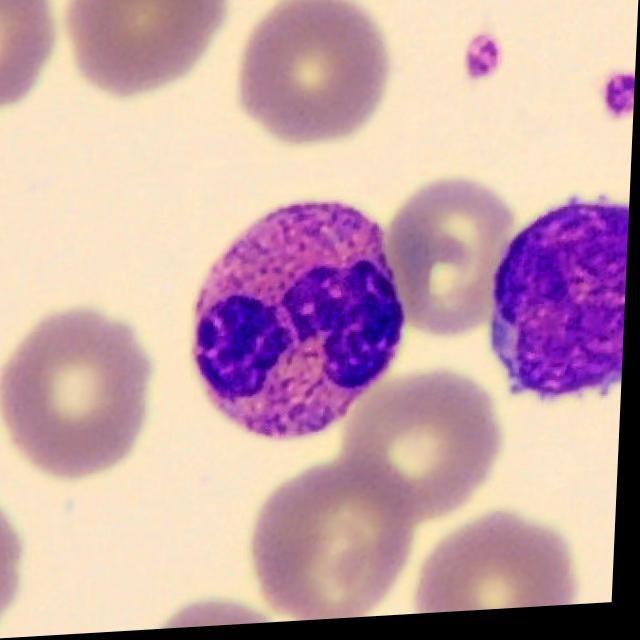Linfocito: (493, 208, 631, 409)
Neutrofilo segmentado: (193, 206, 407, 444)
